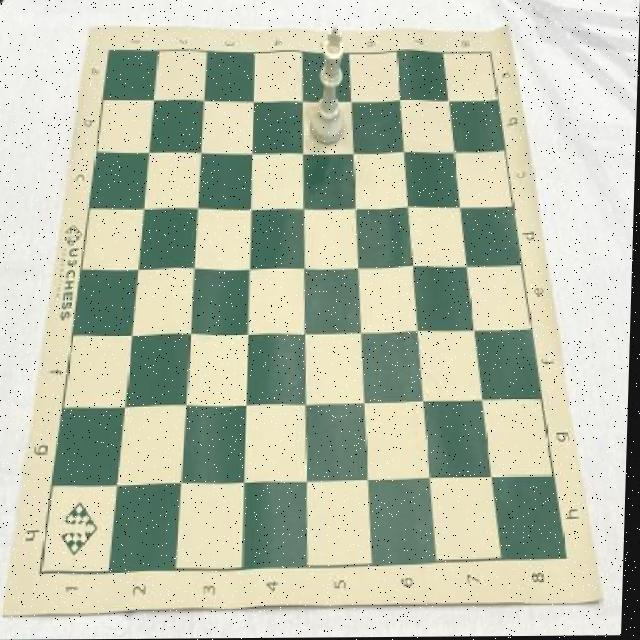white-bishop: (311, 26, 349, 147)
